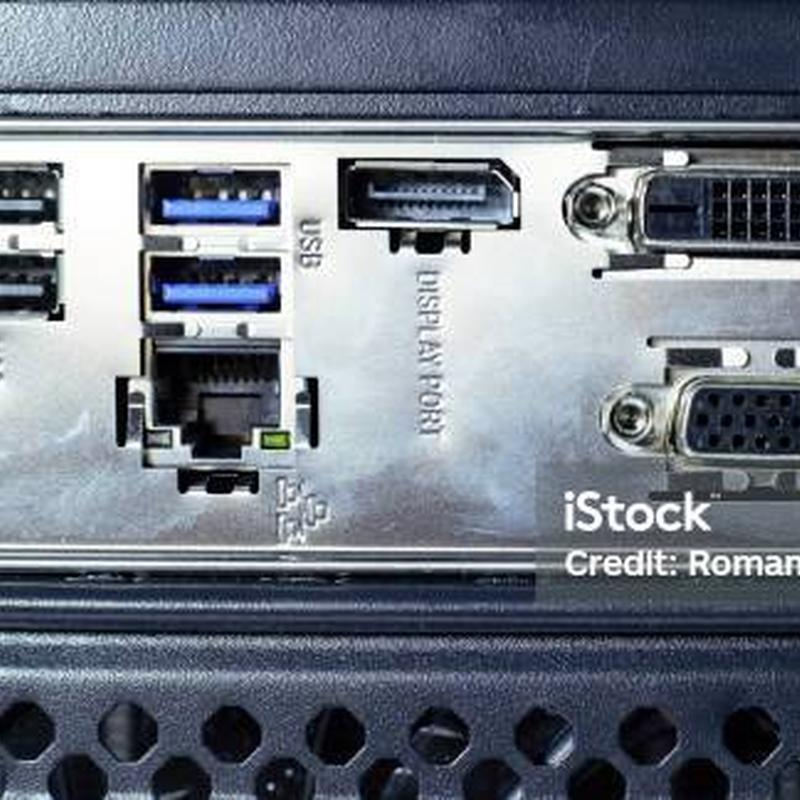DVI: (554, 145, 799, 281)
ETHERNET: (106, 326, 323, 498)
HDMI: (324, 144, 541, 258)
USB: (123, 243, 299, 325), (128, 157, 299, 233), (0, 240, 74, 329), (0, 160, 71, 233)
VGA: (584, 342, 799, 505)
